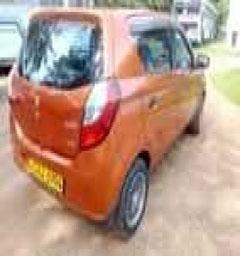car: (5, 3, 232, 246)
